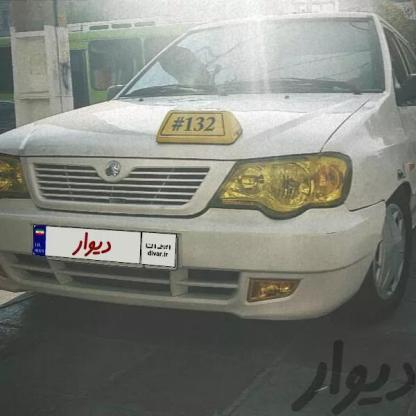Car: (0, 0, 416, 338)
